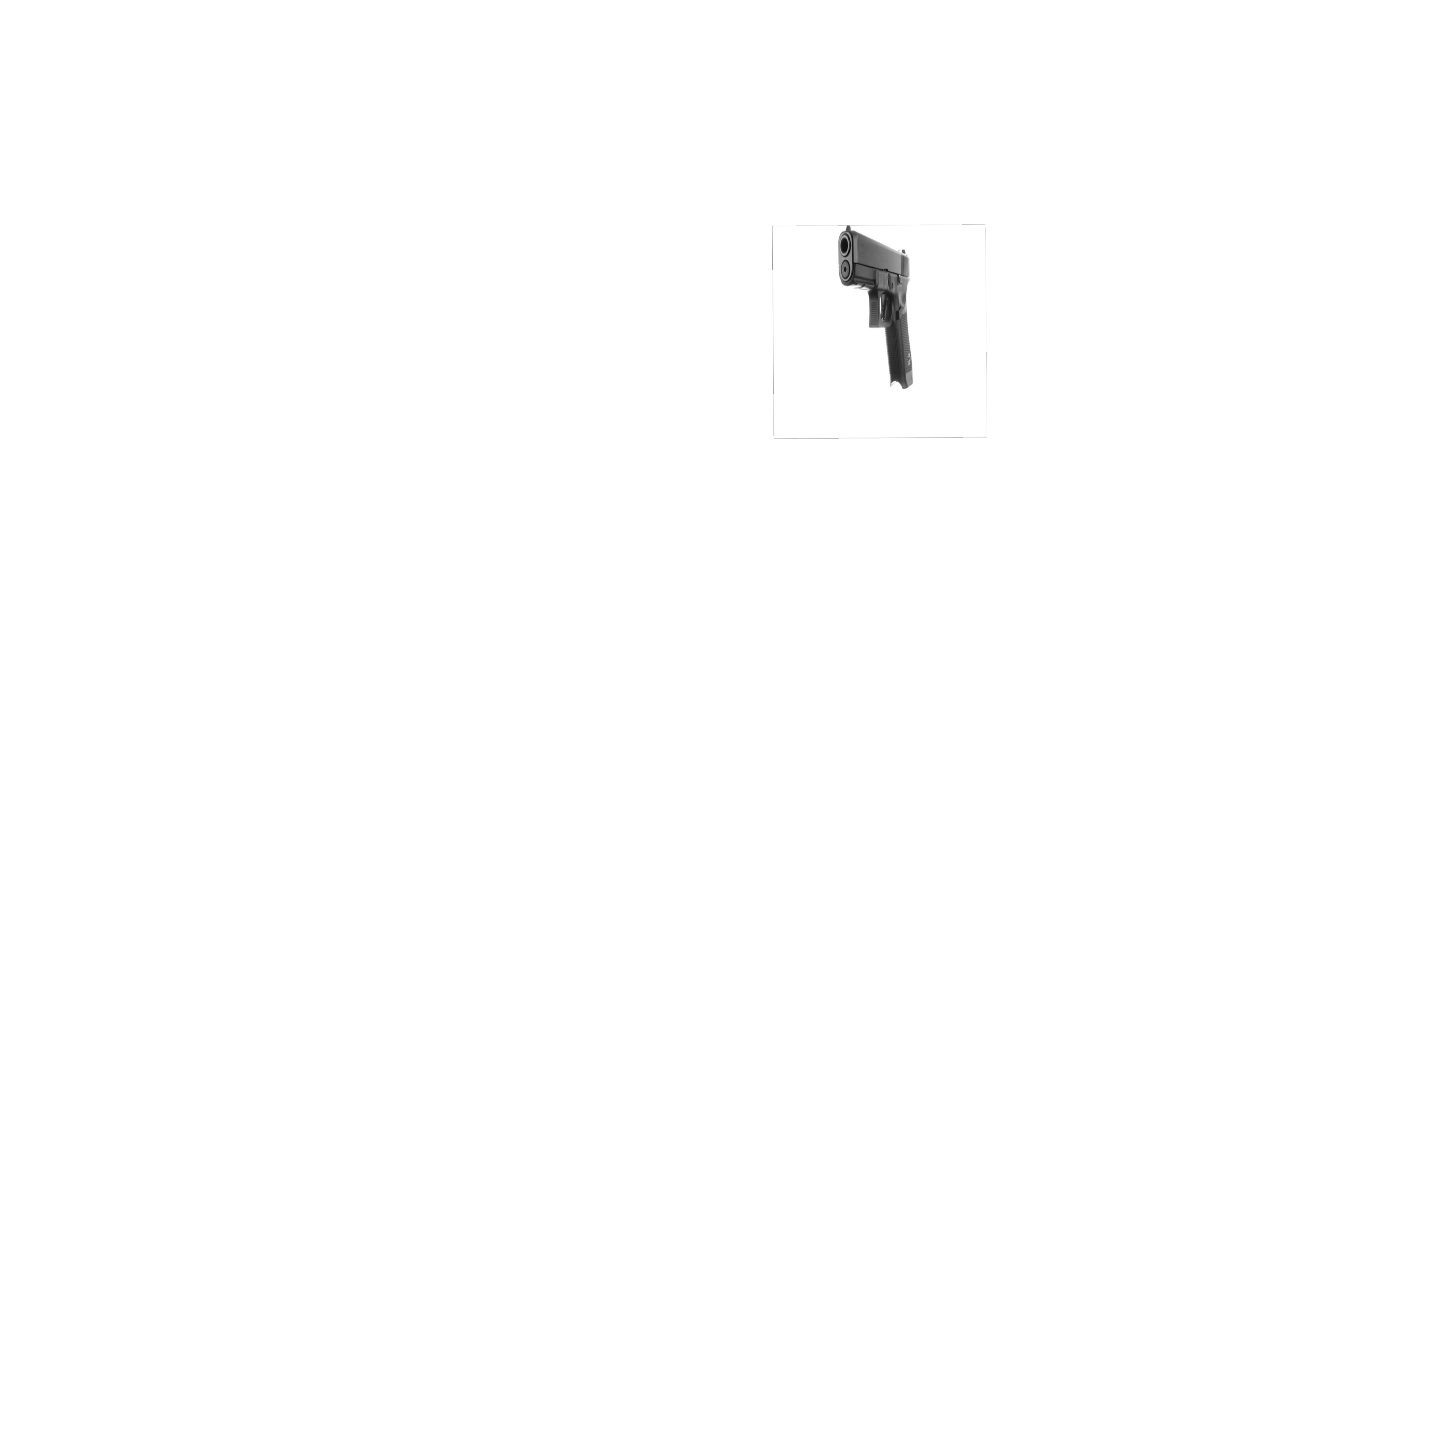gun: (834, 224, 917, 391)
